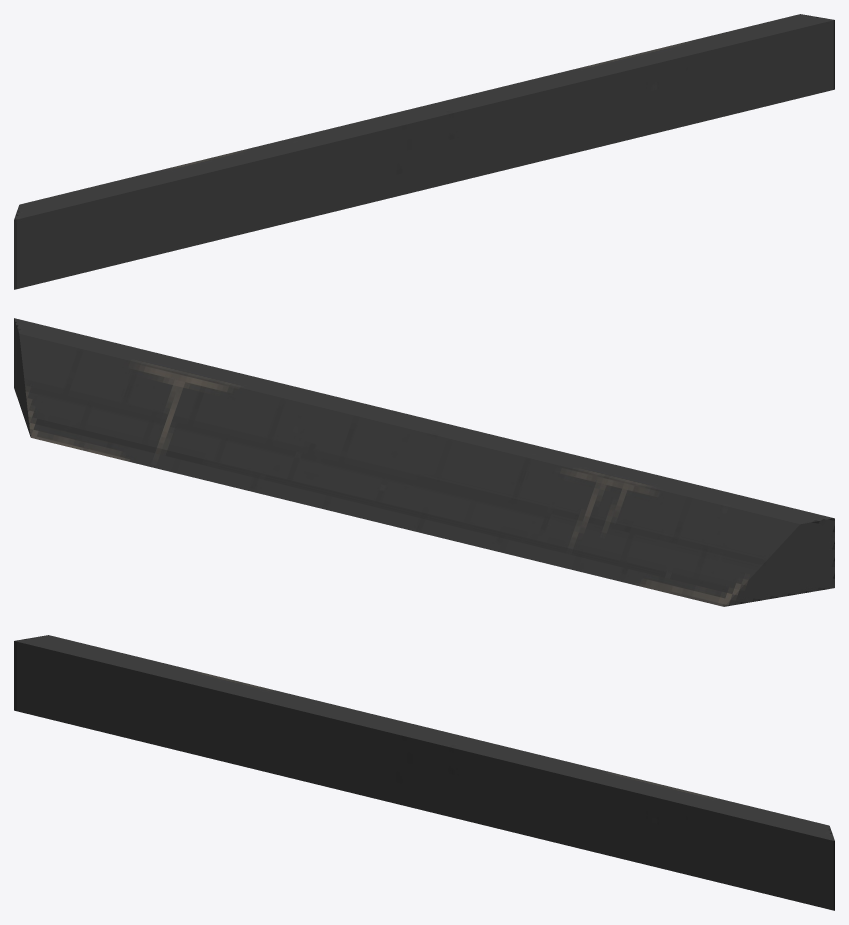
File: Wall_Vertical2.fbx
3 renders of one model, top to bottom at view 1: azimuth 30°, elevation 25°; view 2: azimuth 150°, elevation 25°; view 3: azimuth 330°, elevation 25°, orthographic.
Visible parts, largest first — view 1: Wall_Blank_North; view 2: Wall_Blank_North; view 3: Wall_Blank_North.
Part boxes in pixels (x1,y1,x2,y2): Wall_Blank_North: (14,14,834,289); Wall_Blank_North: (14,318,834,606); Wall_Blank_North: (14,635,834,910).
Size of the model in its own units: 3699 by 300 by 368.
Materials: 1 (1 with a texture image).
